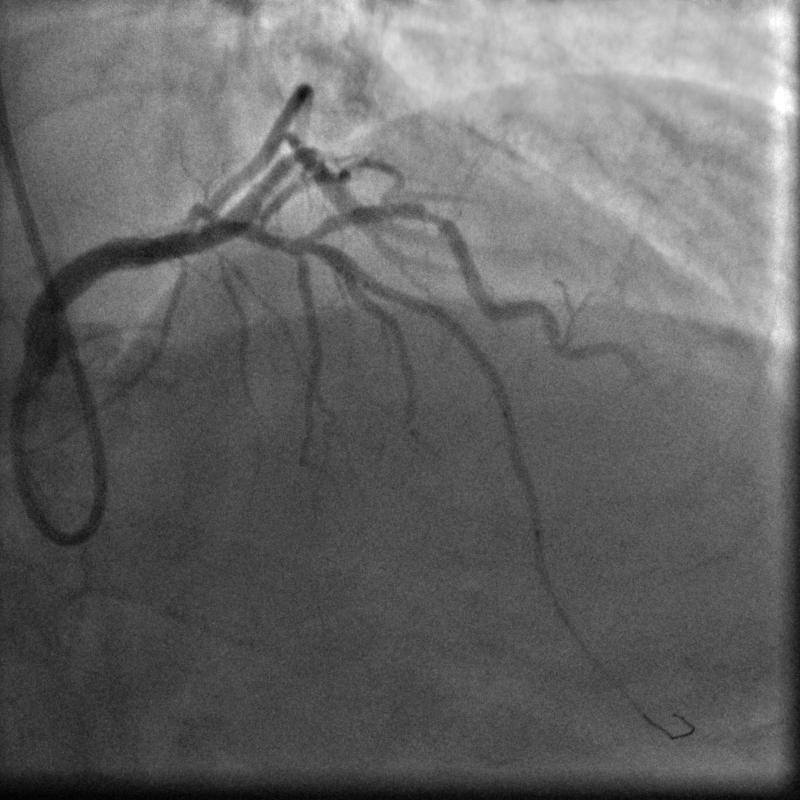Stenosis: (414, 194, 450, 234)
